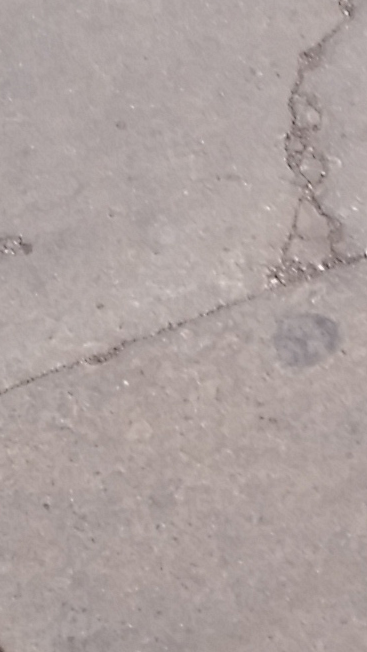A: (5, 4, 365, 412)
